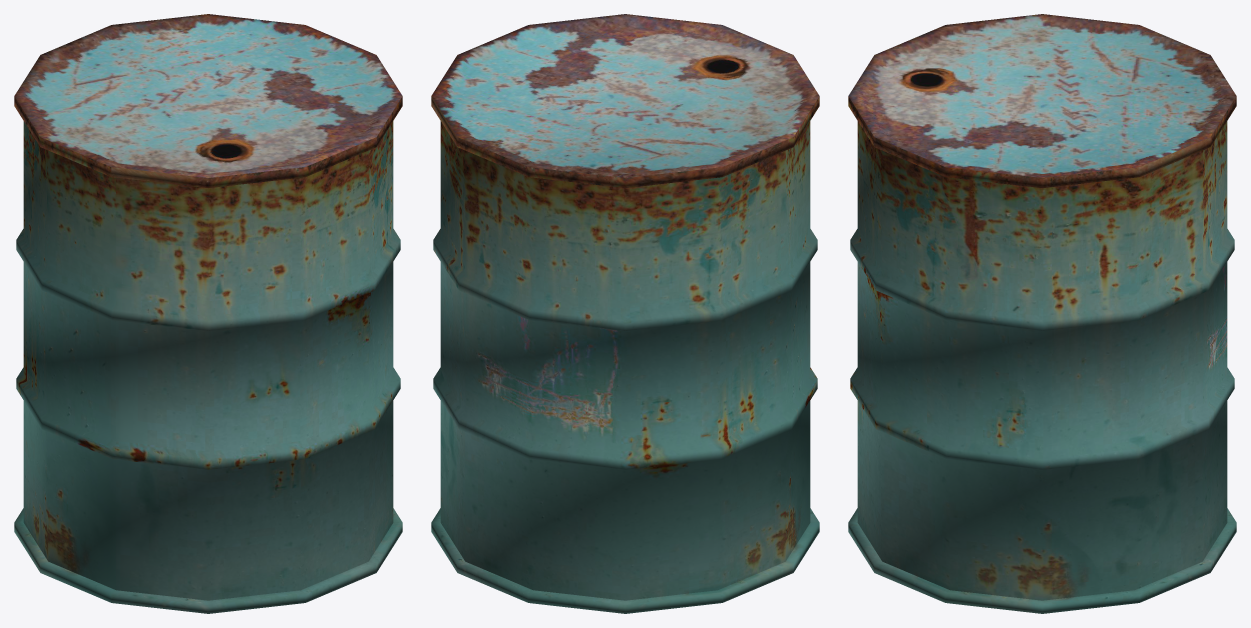
Rendered from FBX_oildrum.fbx.
The picture shows the model from 3 angles, left to right: view 1: azimuth 30°, elevation 25°; view 2: azimuth 150°, elevation 25°; view 3: azimuth 270°, elevation 25°; orthographic projection.
Parts seen in each view (by area): view 1: oildrum; view 2: oildrum; view 3: oildrum.
Boxes of the visible parts, x1,y1,x2,y2 form: oildrum: (14,14,402,613); oildrum: (431,14,819,613); oildrum: (848,14,1236,613).
Size of the model in its own units: 1.05 by 1.05 by 1.3.
